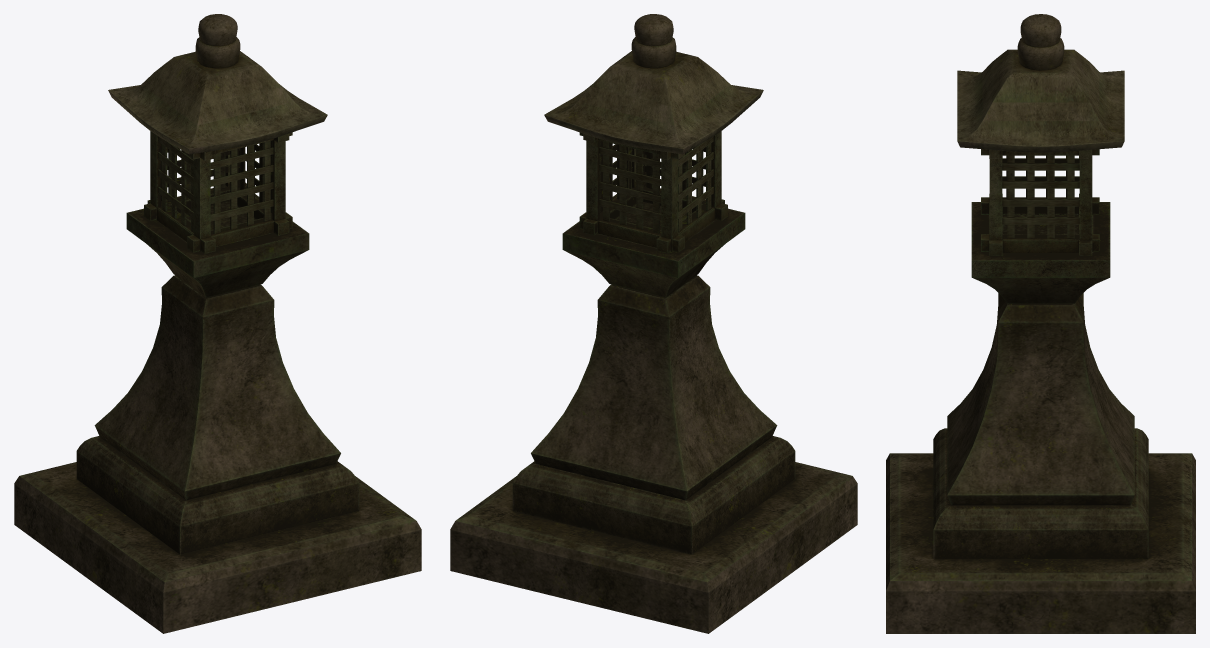
Rendered from japanese_stone_lanterntoro_512.glb.
3 views of the same model, side by side, from view 1: azimuth 30°, elevation 25°; view 2: azimuth 150°, elevation 25°; view 3: azimuth 270°, elevation 25° (orthographic). The views are drawn at different scales.
Parts seen in each view (by area): view 1: SO_002_Base_001, SO_002_Mid_Part_001, SO_002_Base_002, SO_002_Cape, SO_002_Mid_Part_002, SO_002_Lamp_Wood_Mid, SO_002_Lamp_Border_Wood, SO_002_Lamo_Wood_Bottom, SO_002_Top_Ball_001, SO_002_Top_Ball_002; view 2: SO_002_Base_001, SO_002_Mid_Part_001, SO_002_Base_002, SO_002_Cape, SO_002_Mid_Part_002, SO_002_Lamp_Wood_Mid, SO_002_Lamp_Border_Wood, SO_002_Lamo_Wood_Bottom, SO_002_Top_Ball_001, SO_002_Top_Ball_002; view 3: SO_002_Base_001, SO_002_Mid_Part_001, SO_002_Cape, SO_002_Base_002, SO_002_Mid_Part_002, SO_002_Lamp_Wood_Mid, SO_002_Lamp_Border_Wood, SO_002_Lamo_Wood_Bottom, SO_002_Top_Ball_001, SO_002_Top_Ball_002.
Part boxes in pixels (left/top/right/bottom): SO_002_Base_001: left=14, top=462, right=421, bottom=633; SO_002_Mid_Part_001: left=94, top=275, right=340, bottom=500; SO_002_Base_002: left=76, top=436, right=359, bottom=554; SO_002_Cape: left=108, top=51, right=327, bottom=154; SO_002_Mid_Part_002: left=126, top=194, right=309, bottom=297; SO_002_Lamp_Wood_Mid: left=158, top=136, right=273, bottom=233; SO_002_Lamp_Border_Wood: left=150, top=131, right=285, bottom=251; SO_002_Lamo_Wood_Bottom: left=144, top=182, right=292, bottom=253; SO_002_Top_Ball_001: left=198, top=14, right=237, bottom=45; SO_002_Top_Ball_002: left=195, top=37, right=240, bottom=68; SO_002_Base_001: left=450, top=462, right=857, bottom=633; SO_002_Mid_Part_001: left=531, top=275, right=777, bottom=500; SO_002_Base_002: left=512, top=436, right=795, bottom=554; SO_002_Cape: left=544, top=51, right=763, bottom=154; SO_002_Mid_Part_002: left=562, top=194, right=745, bottom=297; SO_002_Lamp_Wood_Mid: left=599, top=136, right=713, bottom=233; SO_002_Lamp_Border_Wood: left=586, top=131, right=721, bottom=251; SO_002_Lamo_Wood_Bottom: left=579, top=182, right=727, bottom=253; SO_002_Top_Ball_001: left=634, top=14, right=673, bottom=45; SO_002_Top_Ball_002: left=631, top=37, right=676, bottom=68; SO_002_Base_001: left=886, top=453, right=1195, bottom=633; SO_002_Mid_Part_001: left=947, top=293, right=1134, bottom=505; SO_002_Cape: left=957, top=49, right=1124, bottom=152; SO_002_Base_002: left=933, top=428, right=1148, bottom=558; SO_002_Mid_Part_002: left=971, top=202, right=1110, bottom=303; SO_002_Lamp_Wood_Mid: left=1002, top=155, right=1079, bottom=238; SO_002_Lamp_Border_Wood: left=989, top=151, right=1092, bottom=252; SO_002_Lamo_Wood_Bottom: left=981, top=193, right=1099, bottom=255; SO_002_Top_Ball_001: left=1020, top=14, right=1061, bottom=47; SO_002_Top_Ball_002: left=1017, top=38, right=1064, bottom=70.
Size of the model in its own units: 1.07 by 2.1 by 1.07.
11 materials, 11 textured.
